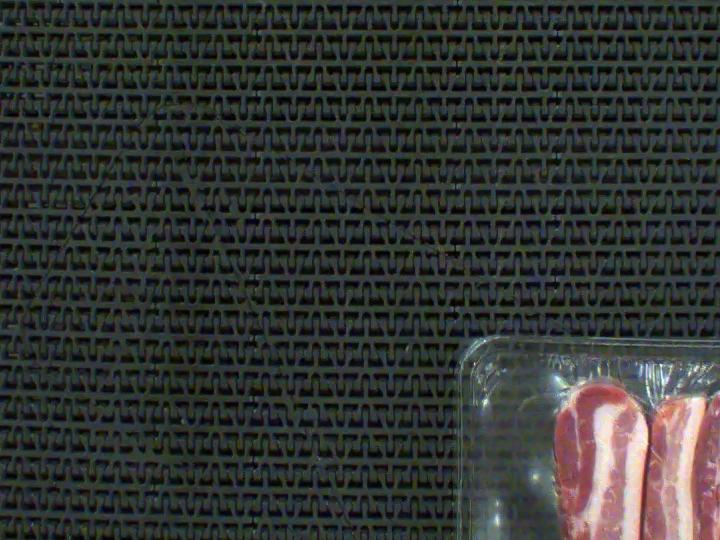unsealed: (491, 345, 720, 540)
